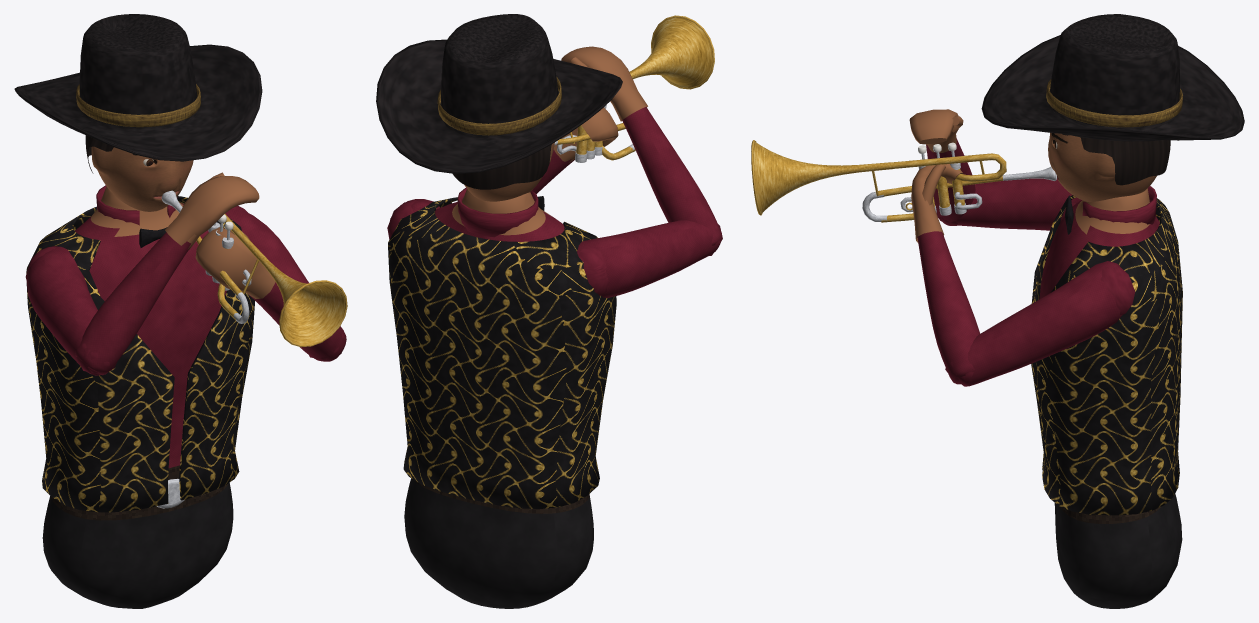
File: torso.obj
3 views of the same model, side by side, from view 1: azimuth 30°, elevation 25°; view 2: azimuth 150°, elevation 25°; view 3: azimuth 270°, elevation 25° (orthographic).
Parts seen in each view (by area): view 1: trompeta1_Chaleco, trompeta1_Torso, trompeta1_Sombrero, trompeta1_Trompeta, trompeta1_AntebrazoDer, trompeta1_BrazoDer, trompeta1_Cabeza, trompeta1_ManoDer, trompeta1_ManoIzq, trompeta1_BrazoIzq, trompeta1_AntebrazoIzq, trompeta1_Cuello; view 2: trompeta1_Chaleco, trompeta1_Sombrero, trompeta1_Torso, trompeta1_BrazoDer, trompeta1_Trompeta, trompeta1_AntebrazoDer, trompeta1_ManoDer, trompeta1_Pelo, trompeta1_Cuello, trompeta1_ManoIzq, trompeta1_HombroDer, trompeta1_Cabeza (+1 smaller); view 3: trompeta1_Chaleco, trompeta1_Sombrero, trompeta1_Torso, trompeta1_BrazoIzq, trompeta1_Trompeta, trompeta1_AntebrazoIzq, trompeta1_BrazoDer, trompeta1_Cabeza, trompeta1_Pelo, trompeta1_ManoIzq, trompeta1_ManoDer, trompeta1_Cuello (+2 smaller).
Part boxes in pixels (x1,y1,x2,y2): trompeta1_Chaleco: (26, 196, 254, 512); trompeta1_Torso: (42, 186, 233, 608); trompeta1_Sombrero: (14, 14, 262, 161); trompeta1_Trompeta: (161, 190, 347, 347); trompeta1_AntebrazoDer: (75, 232, 196, 374); trompeta1_BrazoDer: (26, 246, 100, 375); trompeta1_Cabeza: (91, 146, 193, 211); trompeta1_ManoDer: (165, 172, 259, 249); trompeta1_ManoIzq: (195, 227, 275, 298); trompeta1_BrazoIzq: (225, 208, 317, 359); trompeta1_AntebrazoIzq: (249, 282, 346, 361); trompeta1_Cuello: (96, 185, 177, 225); trompeta1_Chaleco: (388, 197, 616, 508); trompeta1_Sombrero: (376, 14, 622, 173); trompeta1_Torso: (404, 189, 593, 608); trompeta1_BrazoDer: (577, 220, 721, 297); trompeta1_Trompeta: (554, 15, 714, 162); trompeta1_AntebrazoDer: (622, 107, 722, 245); trompeta1_ManoDer: (561, 46, 647, 121); trompeta1_Pelo: (453, 144, 551, 189); trompeta1_Cuello: (457, 188, 538, 237); trompeta1_ManoIzq: (553, 107, 618, 162); trompeta1_HombroDer: (578, 245, 608, 295); trompeta1_Cabeza: (464, 142, 554, 201); trompeta1_Chaleco: (1031, 195, 1182, 515); trompeta1_Sombrero: (981, 14, 1244, 141); trompeta1_Torso: (1039, 188, 1182, 608); trompeta1_BrazoIzq: (958, 261, 1122, 386); trompeta1_Trompeta: (751, 140, 1056, 222); trompeta1_AntebrazoIzq: (917, 231, 980, 384); trompeta1_BrazoDer: (941, 178, 1080, 230); trompeta1_Cabeza: (1048, 133, 1156, 202); trompeta1_Pelo: (1062, 134, 1170, 185); trompeta1_ManoIzq: (911, 164, 963, 242); trompeta1_ManoDer: (909, 109, 963, 152); trompeta1_Cuello: (1082, 186, 1156, 224).
Bounding box in the file's own units: 0.5172 × 1.03 × 0.8168.
Materials: 18 (18 with a texture image).
